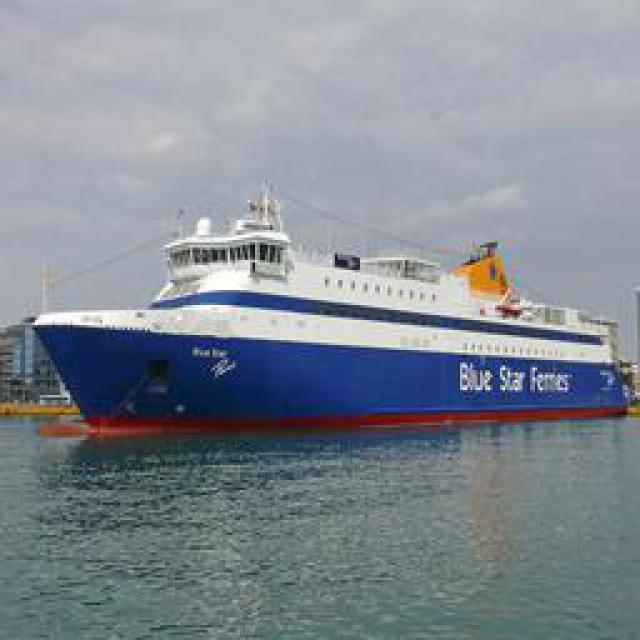Ship: (25, 177, 630, 435)
